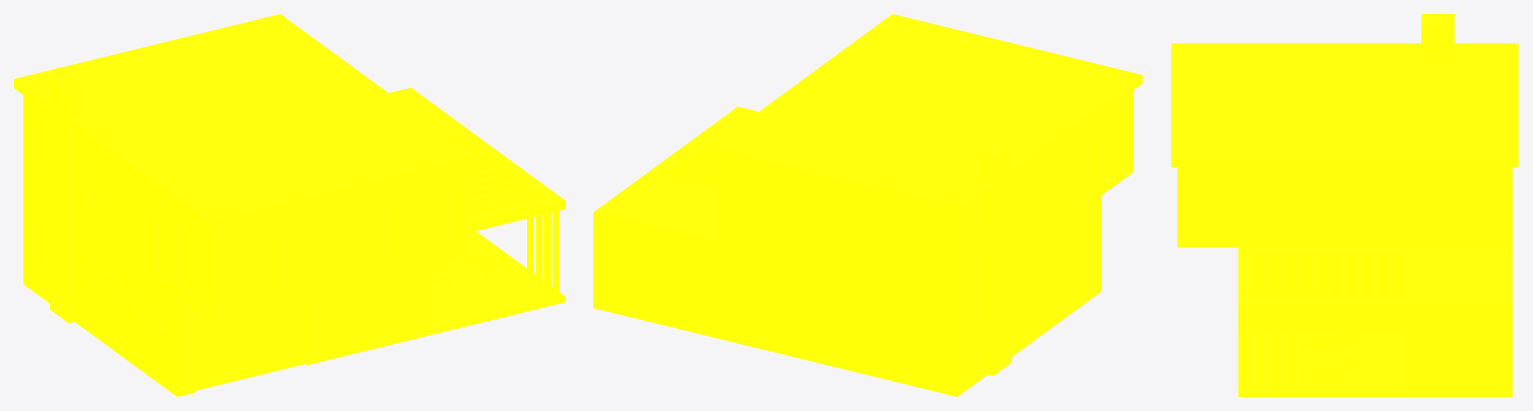
The model's file is building-house-modern.glb.
The picture shows the model from 3 angles, left to right: view 1: azimuth 30°, elevation 25°; view 2: azimuth 150°, elevation 25°; view 3: azimuth 270°, elevation 25°; orthographic projection. The views are drawn at different scales.
Visible parts, largest first — view 1: building-house-modern; view 2: building-house-modern; view 3: building-house-modern.
Boxes of the visible parts, <box> form: building-house-modern: <box>14,14,564,396</box>; building-house-modern: <box>593,14,1142,396</box>; building-house-modern: <box>1171,14,1518,396</box>.
Size of the model in its own units: 13.3 by 7.77 by 11.4.
1 material, 1 textured.
